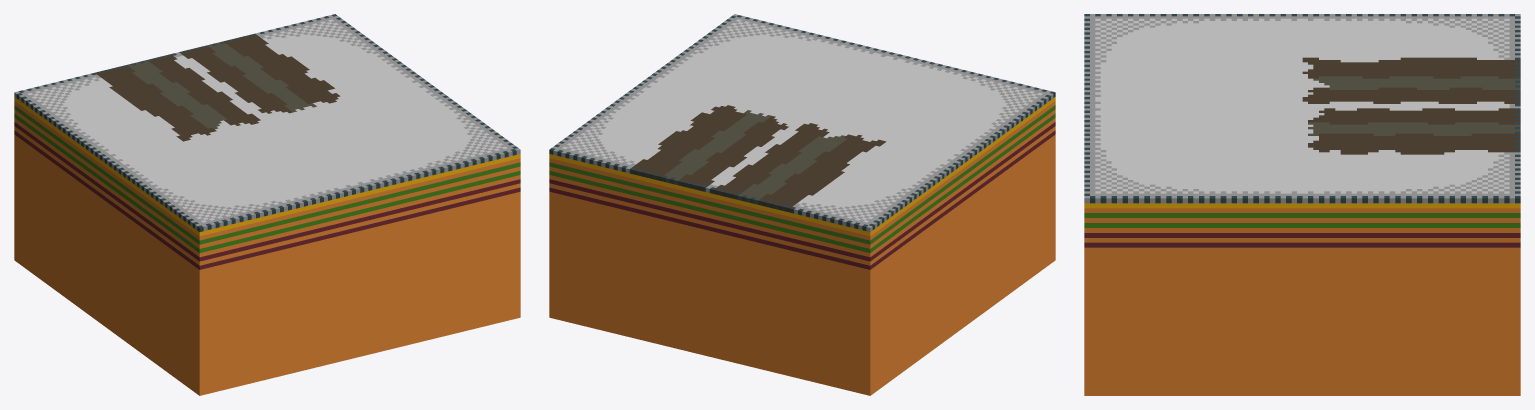
Rendered from snow_road_transition_3_tile.obj.
3 renders of one model, left to right at view 1: azimuth 30°, elevation 25°; view 2: azimuth 150°, elevation 25°; view 3: azimuth 270°, elevation 25°, orthographic. The views are drawn at different scales.
Size of the model in its own units: 8 by 4 by 8.
1 material, 1 textured.
